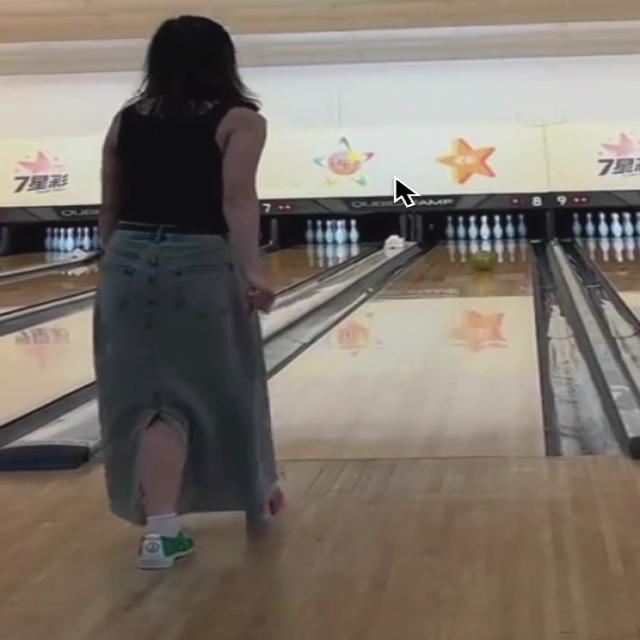alley: (270, 239, 541, 461)
balls: (472, 250, 497, 271)
bottle: (447, 213, 525, 242)
